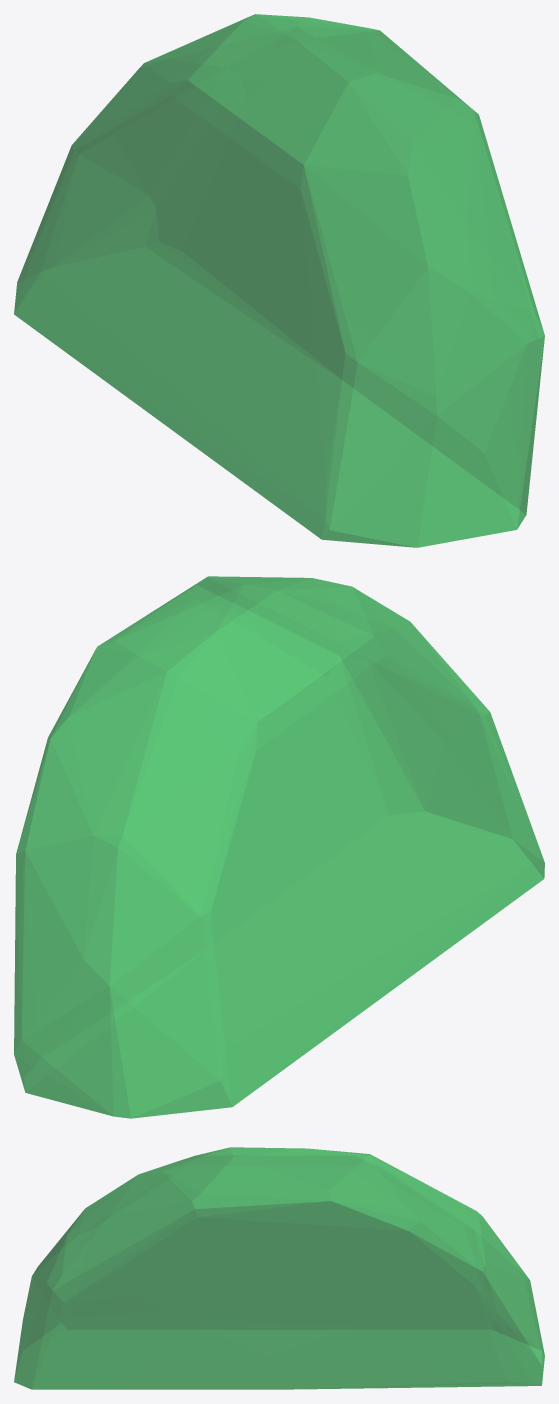
3 renders of one model, top to bottom at view 1: azimuth 30°, elevation 25°; view 2: azimuth 150°, elevation 25°; view 3: azimuth 270°, elevation 25°, orthographic. The views are drawn at different scales.
Parts seen in each view (by area): view 1: Shape_IndexedFaceSet.001_Shape_IndexedFaceSet.2817; view 2: Shape_IndexedFaceSet.001_Shape_IndexedFaceSet.2817; view 3: Shape_IndexedFaceSet.001_Shape_IndexedFaceSet.2817.
Boxes of the visible parts, x1=… form: Shape_IndexedFaceSet.001_Shape_IndexedFaceSet.2817: x1=14, y1=14, x2=544, y2=547; Shape_IndexedFaceSet.001_Shape_IndexedFaceSet.2817: x1=14, y1=576, x2=544, y2=1118; Shape_IndexedFaceSet.001_Shape_IndexedFaceSet.2817: x1=14, y1=1147, x2=544, y2=1389.
Size of the model in its own units: 0.0362 by 0.0465 by 0.0967.
